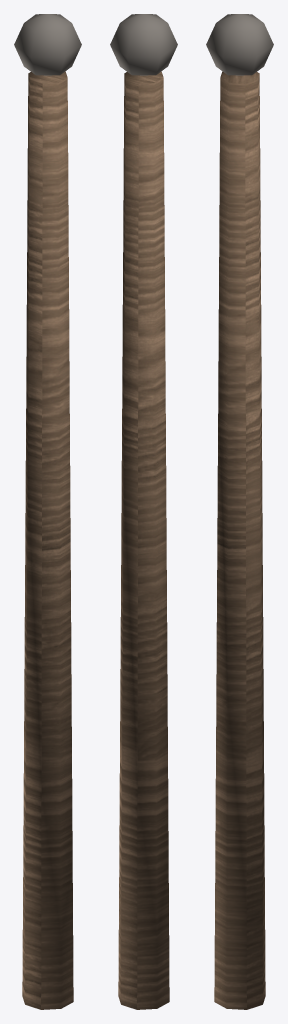
File: wand.glb
The picture shows the model from 3 angles, left to right: view 1: azimuth 30°, elevation 25°; view 2: azimuth 210°, elevation 25°; view 3: azimuth 330°, elevation 25°; orthographic projection.
Visible parts, largest first — view 1: wand; view 2: wand; view 3: wand.
Boxes of the visible parts, x1,y1,x2,y2 form: wand: (14, 14, 81, 1009); wand: (110, 14, 177, 1009); wand: (206, 14, 273, 1009).
Bounding box in the file's own units: 0.0173 × 0.32 × 0.02.
Materials: 2 (1 with a texture image).
